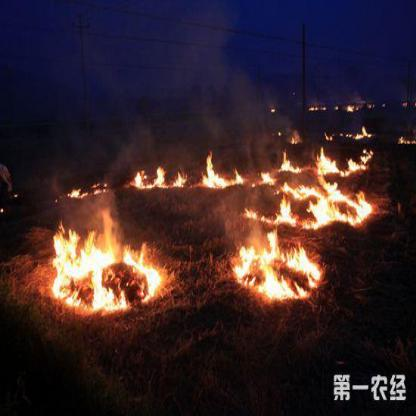fire: (39, 225, 170, 311), (224, 175, 372, 230), (233, 228, 336, 307), (72, 160, 375, 178)
